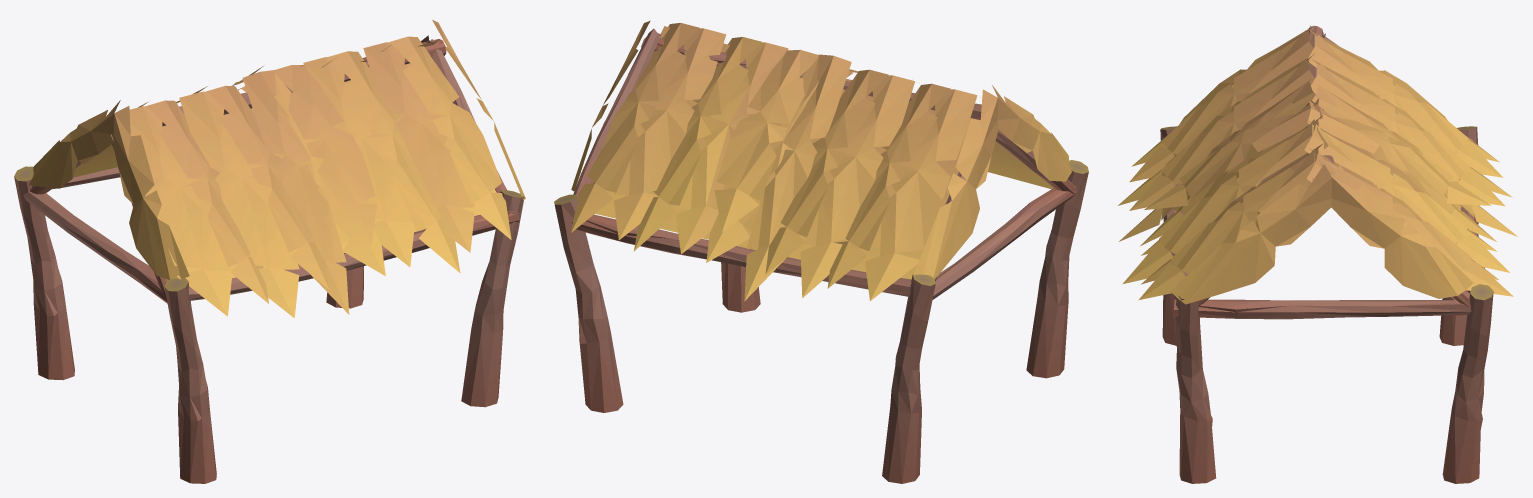
3 views of the same model, side by side, from view 1: azimuth 30°, elevation 25°; view 2: azimuth 150°, elevation 25°; view 3: azimuth 270°, elevation 25° (orthographic). The views are drawn at different scales.
Parts seen in each view (by area): view 1: TropicalBuildingOpen; view 2: TropicalBuildingOpen; view 3: TropicalBuildingOpen.
Boxes of the visible parts, x1=… form: TropicalBuildingOpen: x1=14, y1=20, x2=525, y2=483; TropicalBuildingOpen: x1=554, y1=20, x2=1088, y2=483; TropicalBuildingOpen: x1=1118, y1=25, x2=1517, y2=483.
Bounding box in the file's own units: 6.71 × 5.7 × 6.48.
1 material, 1 textured.
